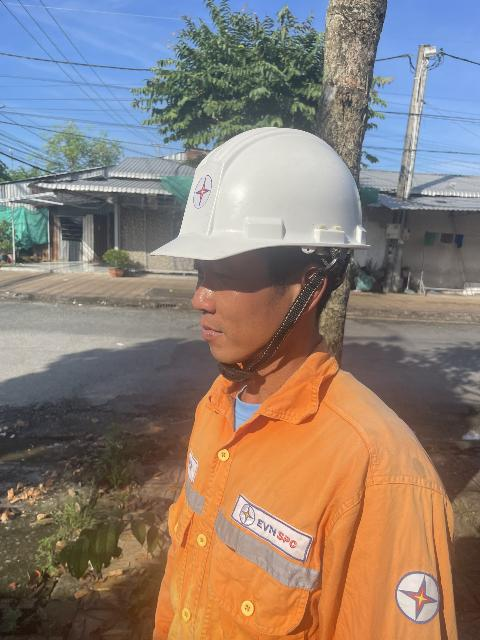helmet: (140, 120, 390, 272)
